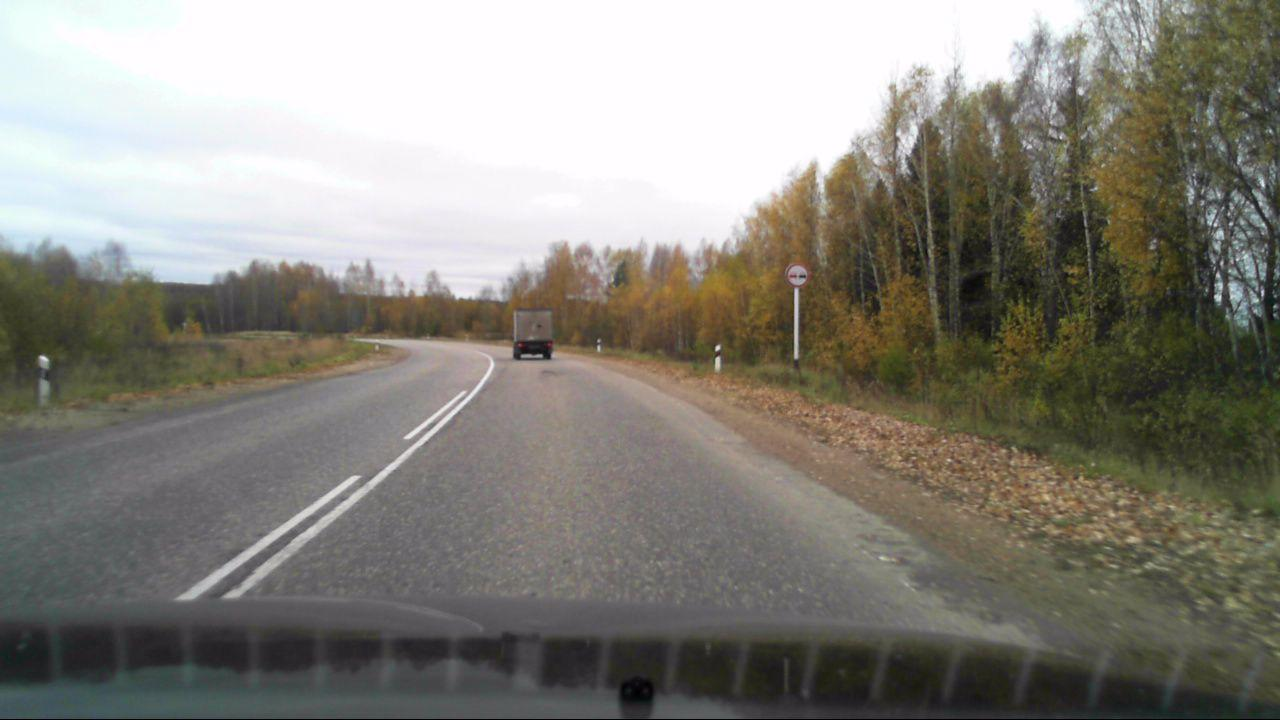road_sign: (784, 261, 810, 289)
